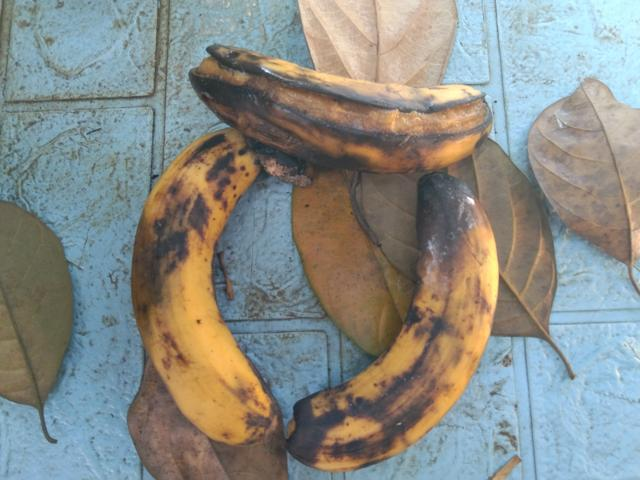overripe: (115, 134, 265, 479)
rotten: (291, 182, 516, 468), (169, 30, 517, 180)
